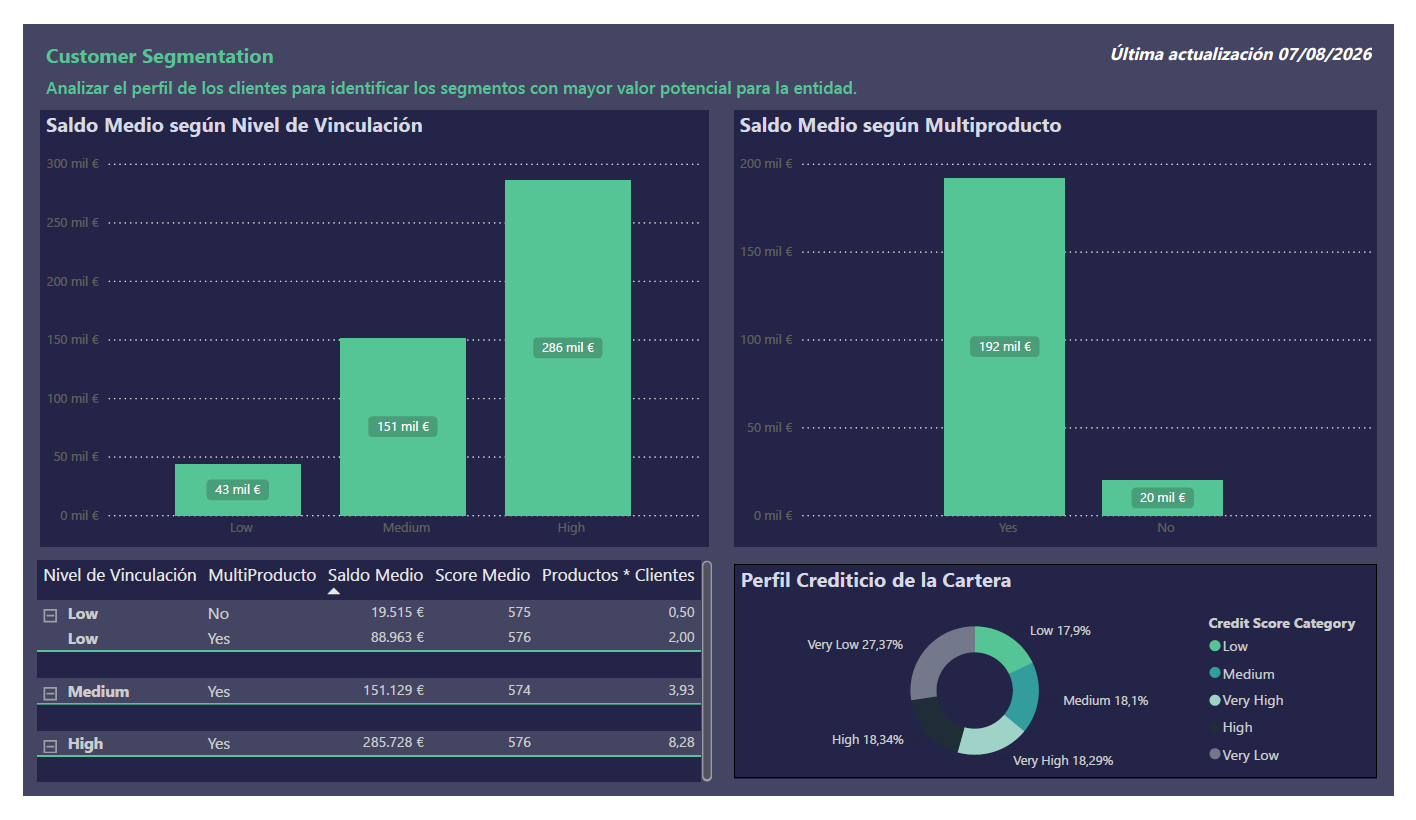

Layout of this report page (visuals, bound fields, positions):
{"tool":"powerbi","page":{"name":"Customer Intelligence","canvas":[1280,720],"ordinal":1},"visuals":[{"type":"textbox","title":"Customer Segmentation","box":[16,16,1248,24],"z":0},{"type":"textbox","title":"Analizar el perfil de los clientes para identificar los segmentos con mayor valor potencial para la entidad.","box":[16,48,1240,24],"z":1000},{"type":"clusteredColumnChart","title":"Saldo Medio según Multiproducto","fields":{"Category":["Customers.multi_product"],"Y":["Measure.Average Balance"]},"box":[664,80,600,408],"z":2000},{"type":"clusteredColumnChart","title":"Saldo Medio según Nivel de Vinculación","fields":{"Category":["Customers.engagement_level"],"Y":["Measure.Average Balance"]},"box":[16,80,624,408],"z":3000},{"type":"pivotTable","title":"Saldo Medio según Multiproducto","fields":{"Rows":["Customers.engagement_level","Customers.multi_product"],"Values":["Measure.Average Balance","Measure.Average Credit Score","Measure.Average Products per Customer"]},"box":[8,496,640,216],"z":4000},{"type":"donutChart","title":"Perfil Crediticio de la Cartera","fields":{"Y":["Measure.Total Customers"],"Category":["Customers.Credit Score Category"]},"box":[664,504,600,200],"z":5000},{"type":"textbox","title":"Fecha de análisis 07/08/2026","box":[872,16,392,24],"z":6000}]}

Visuals, with their boxes in screenshot pixels (x1, y1, x2, y2), scaled from the page's 1280x720 canvas onto the 1416x820 screenshot:
"Customer Segmentation" textbox: box(18, 18, 1398, 46)
"Analizar el perfil de los clientes para identificar los segmentos con mayor valor potencial para la entidad." textbox: box(18, 55, 1389, 82)
"Saldo Medio según Multiproducto" clusteredColumnChart: box(735, 91, 1398, 556)
"Saldo Medio según Nivel de Vinculación" clusteredColumnChart: box(18, 91, 708, 556)
"Saldo Medio según Multiproducto" pivotTable: box(9, 565, 717, 811)
"Perfil Crediticio de la Cartera" donutChart: box(735, 574, 1398, 802)
"Fecha de análisis 07/08/2026" textbox: box(965, 18, 1398, 46)
